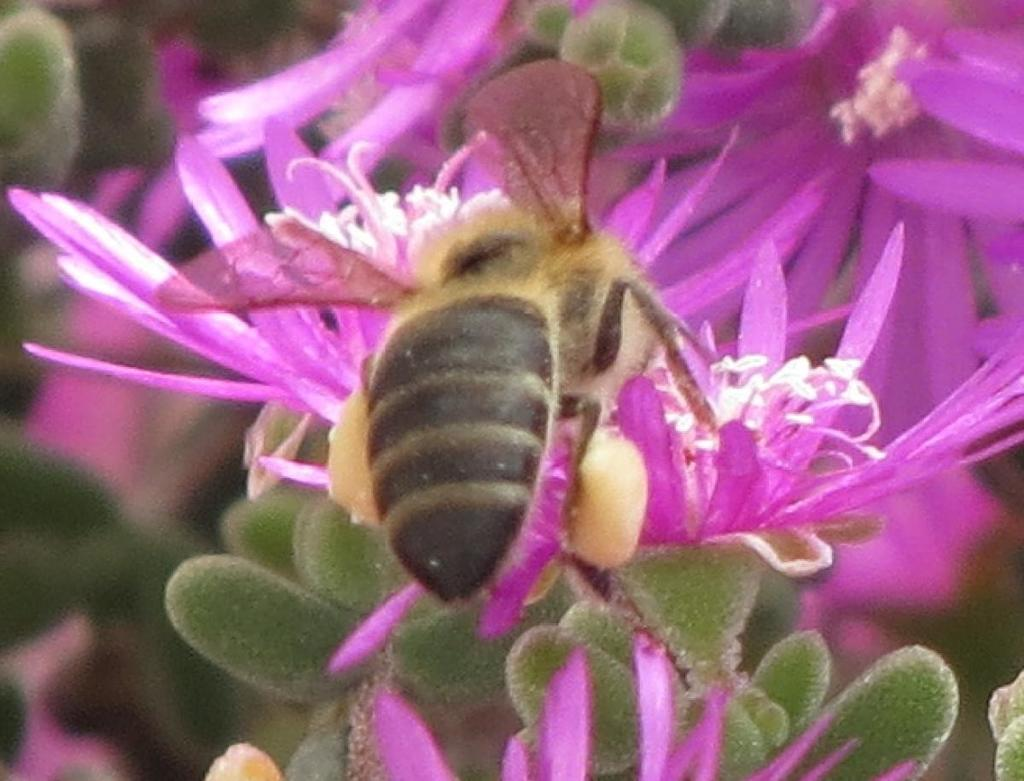not_bumblebee: (153, 53, 723, 606)
